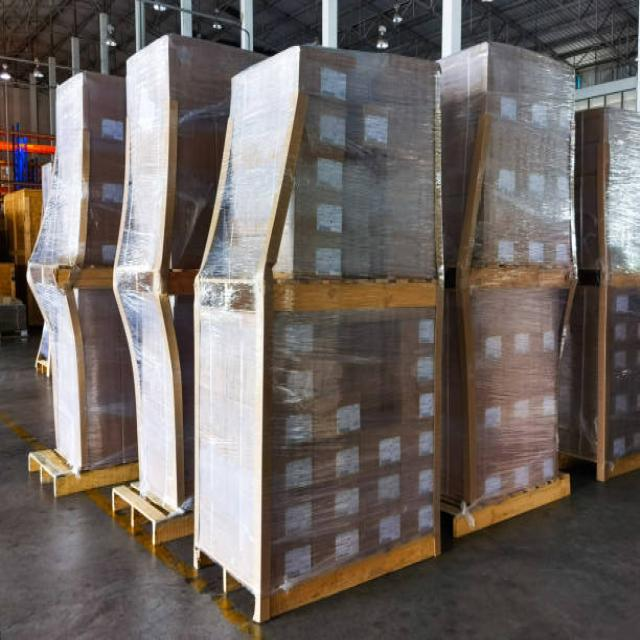Wooden-Pallets: (182, 527, 444, 623), (95, 468, 168, 564), (9, 432, 62, 517)
